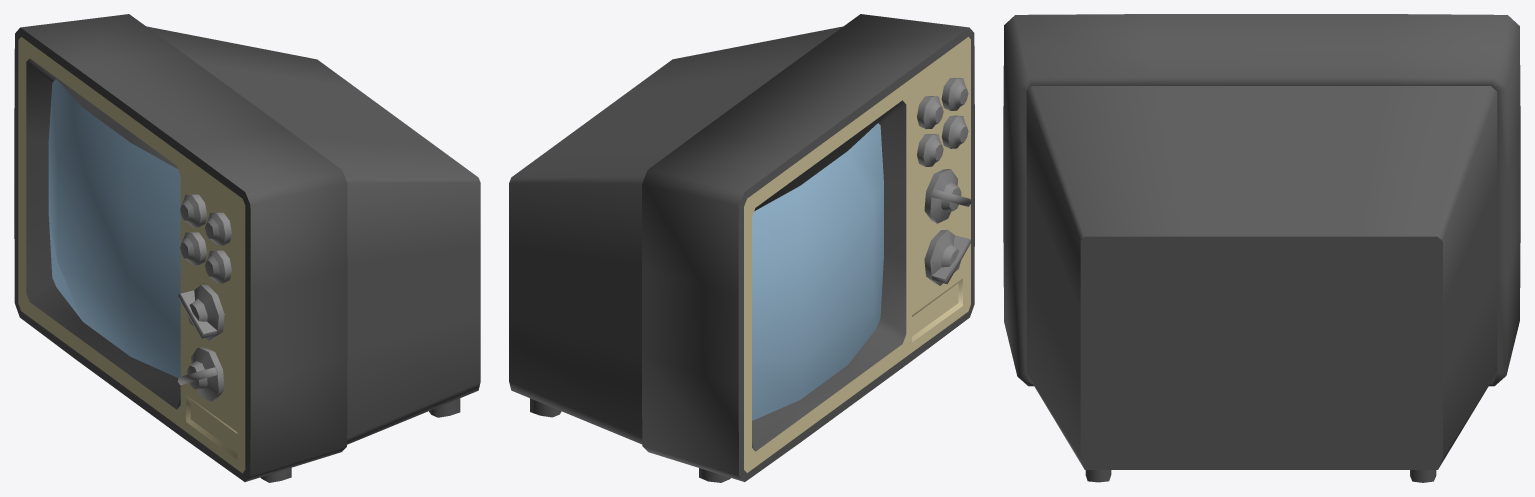
The picture shows the model from 3 angles, left to right: view 1: azimuth 30°, elevation 25°; view 2: azimuth 150°, elevation 25°; view 3: azimuth 270°, elevation 25°; orthographic projection. The views are drawn at different scales.
Parts seen in each view (by area): view 1: SM_TV_01.001; view 2: SM_TV_01.001; view 3: SM_TV_01.001.
Part boxes in pixels (x1,y1,x2,y2): SM_TV_01.001: (14,14,480,482); SM_TV_01.001: (509,14,974,482); SM_TV_01.001: (1003,14,1520,482).
Bounding box in the file's own units: 0.5344 × 0.7608 × 0.5435.
